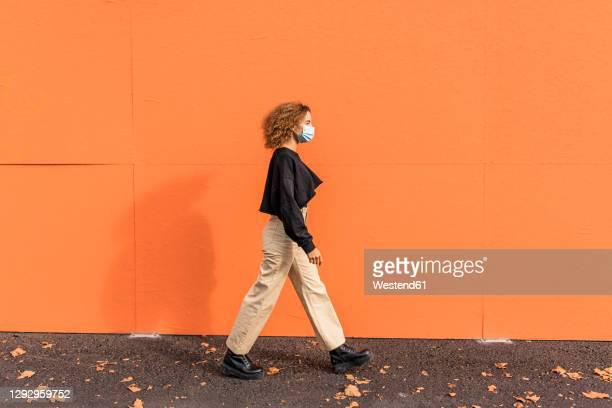with_mask: (261, 103, 318, 150)
